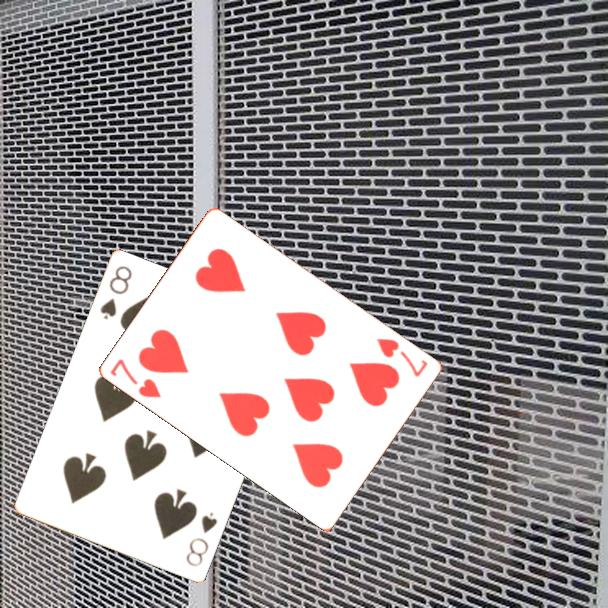h07: (373, 334, 431, 380), (107, 355, 165, 401)
s08: (182, 509, 220, 570), (97, 262, 135, 322)
